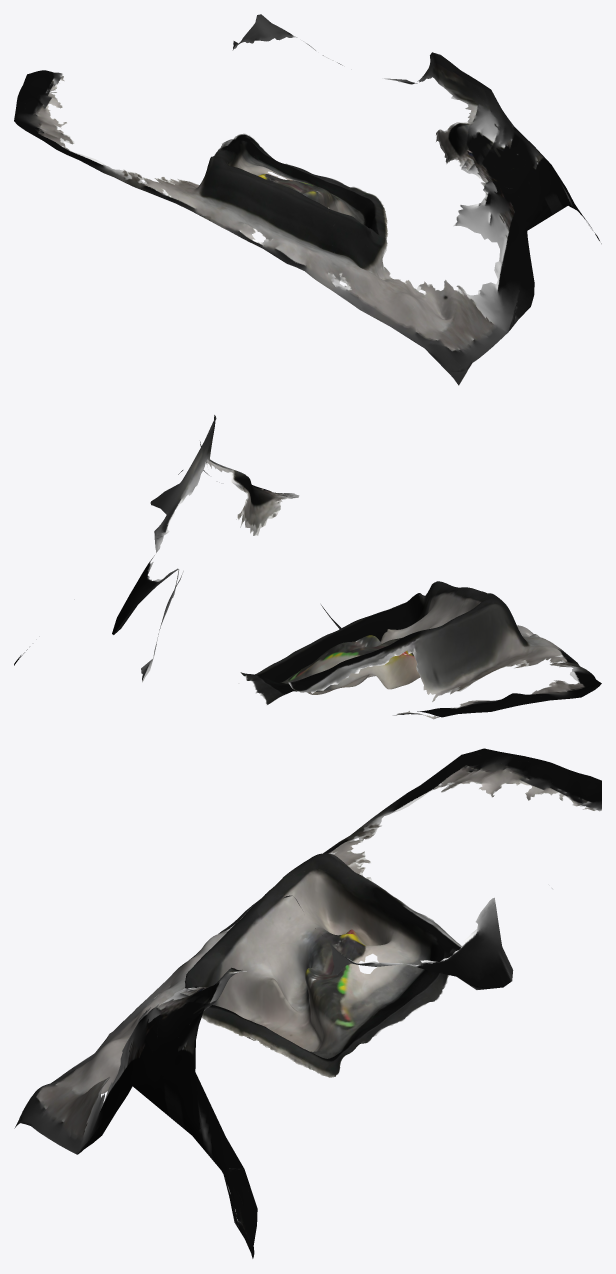
3 renders of one model, top to bottom at view 1: azimuth 30°, elevation 25°; view 2: azimuth 150°, elevation 25°; view 3: azimuth 270°, elevation 25°, orthographic. The views are drawn at different scales.
Bounding box in the file's own units: 1.21 × 0.5423 × 1.01.
Materials: 1 (1 with a texture image).
